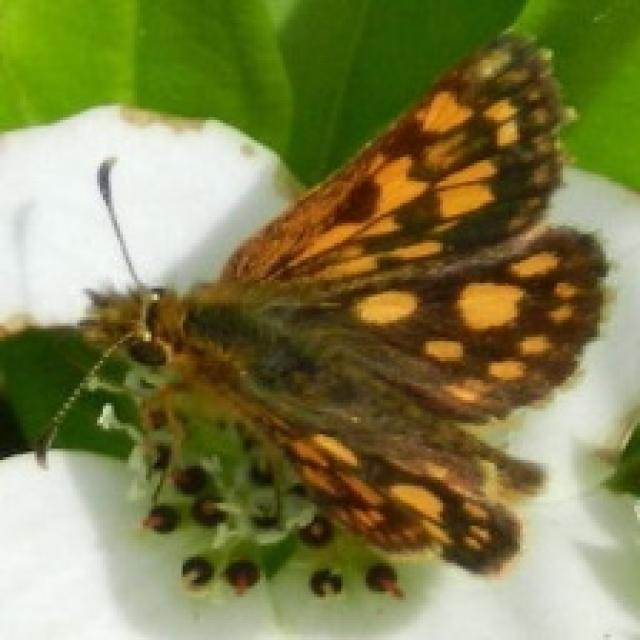butterfly: (31, 26, 608, 586)
